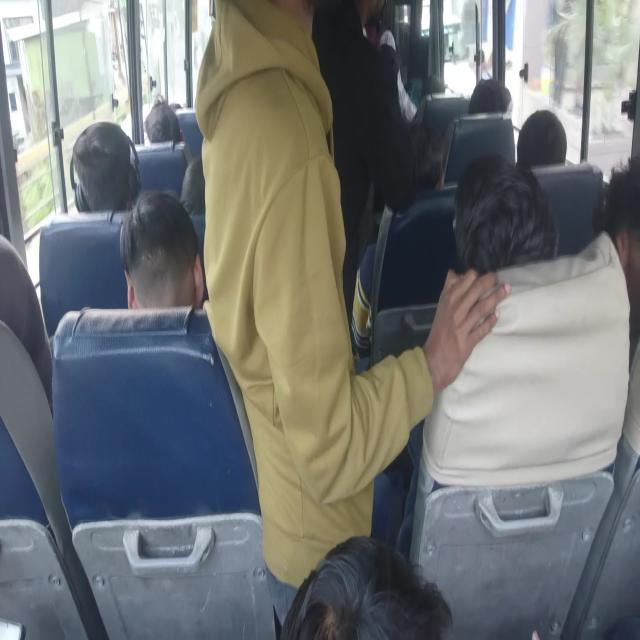person: (194, 0, 511, 618), (311, 0, 415, 338), (280, 534, 453, 639), (452, 152, 559, 276), (119, 188, 204, 310), (69, 120, 141, 212), (516, 108, 567, 169), (143, 95, 182, 145), (179, 154, 205, 218), (468, 78, 512, 115)
